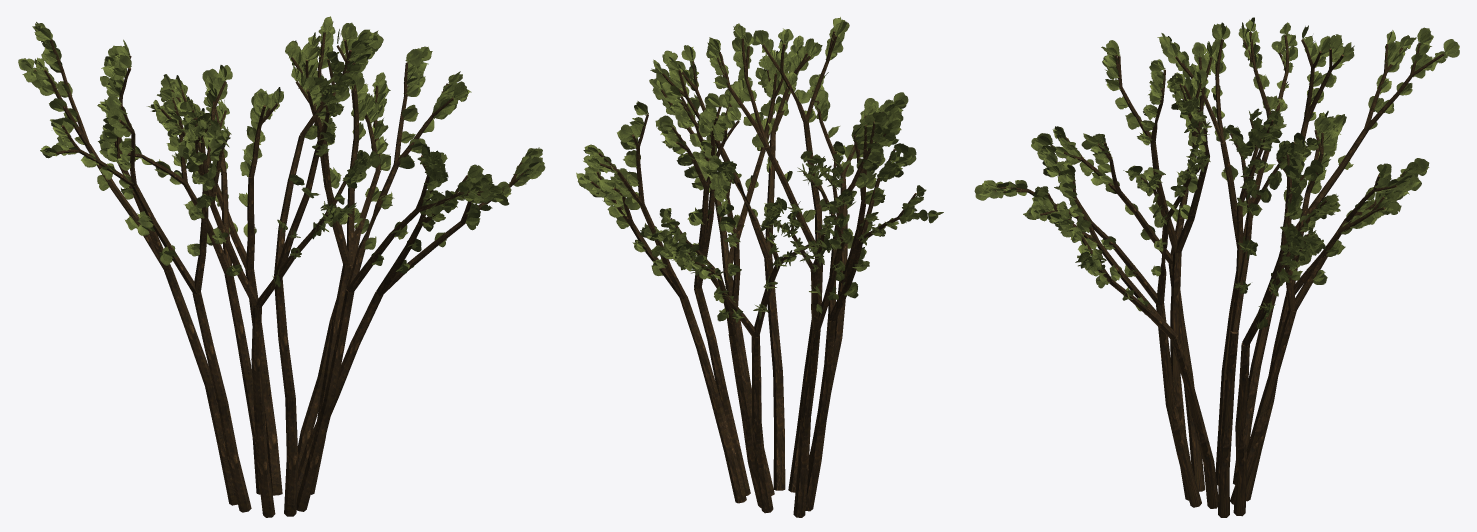
The model's file is hazel_coppice_v02.fbx.
The picture shows the model from 3 angles, left to right: view 1: azimuth 30°, elevation 25°; view 2: azimuth 150°, elevation 25°; view 3: azimuth 270°, elevation 25°; orthographic projection. The views are drawn at different scales.
Visible parts, largest first — view 1: hazel_coppice_v02; view 2: hazel_coppice_v02; view 3: hazel_coppice_v02.
Part boxes in pixels (x1,y1,x2,y2): hazel_coppice_v02: (18, 16, 545, 517); hazel_coppice_v02: (576, 17, 943, 517); hazel_coppice_v02: (974, 17, 1459, 517).
Size of the model in its own units: 423 by 474 by 458.
Materials: 2 (2 with a texture image).
